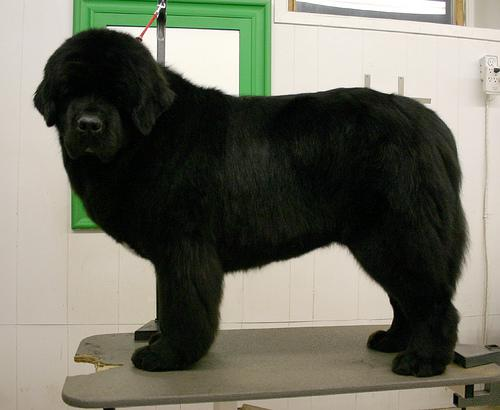dog-newfoundland: (32, 28, 174, 161)
